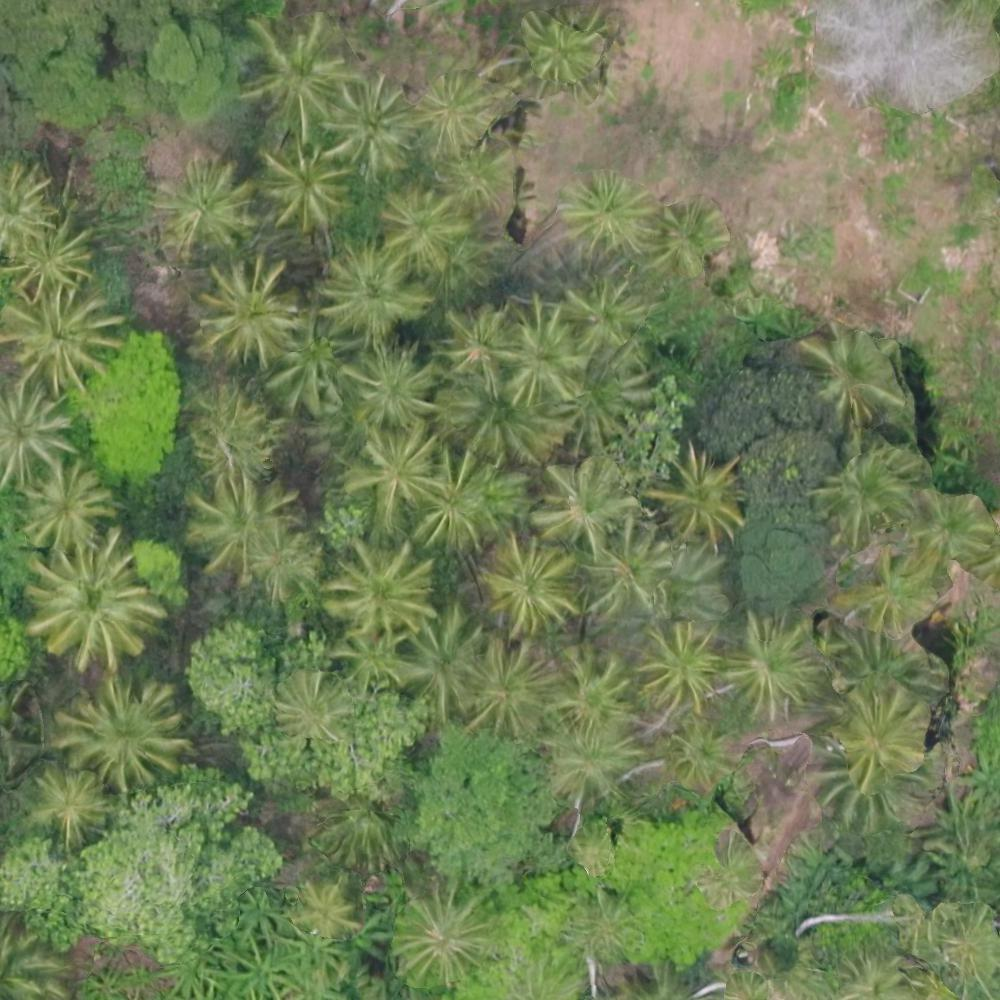Palm: (31, 545, 152, 660), (66, 679, 187, 783), (3, 286, 121, 386), (247, 17, 351, 121), (191, 263, 296, 365), (328, 533, 433, 634), (409, 447, 510, 551), (393, 882, 499, 980), (191, 468, 287, 574), (322, 243, 428, 334), (500, 304, 592, 408), (464, 634, 554, 740), (835, 683, 930, 780), (728, 612, 821, 711), (393, 607, 482, 709), (482, 535, 572, 633), (324, 75, 415, 167), (538, 459, 629, 551), (160, 157, 253, 247), (653, 446, 742, 539), (547, 646, 633, 742), (349, 428, 436, 521), (1, 387, 78, 489), (26, 463, 115, 549), (261, 140, 347, 229), (637, 616, 718, 706), (345, 344, 429, 428), (562, 169, 644, 254), (384, 183, 461, 271), (581, 528, 660, 613), (11, 216, 92, 296), (563, 275, 643, 355), (412, 68, 491, 149), (31, 765, 109, 843), (441, 301, 514, 381), (278, 669, 353, 741), (517, 14, 592, 85), (292, 871, 361, 944)
